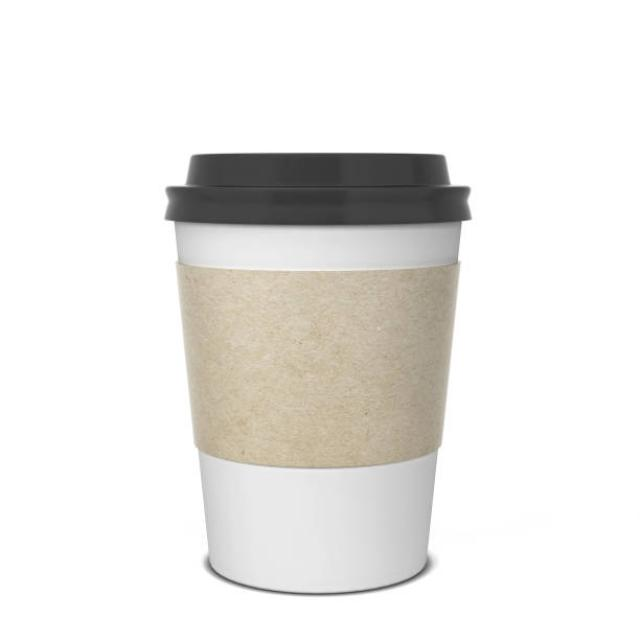cup: (157, 143, 479, 596)
